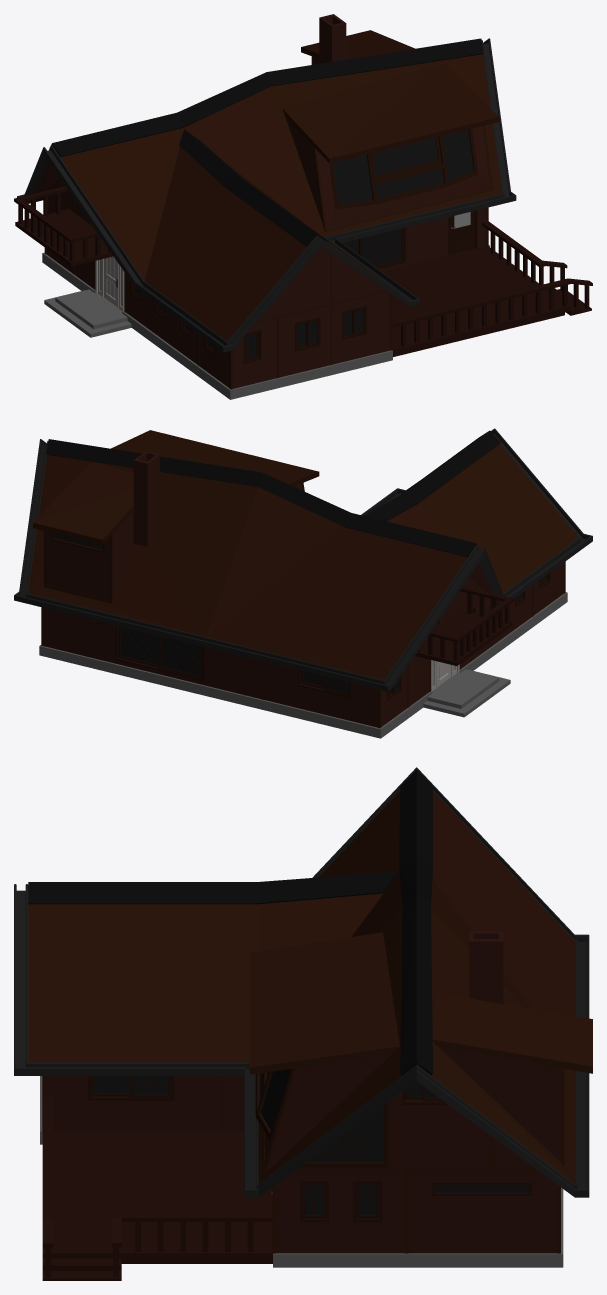
Rendered from H-005(ext)_F.FBX.
3 renders of one model, top to bottom at view 1: azimuth 30°, elevation 25°; view 2: azimuth 150°, elevation 25°; view 3: azimuth 270°, elevation 25°, orthographic. The views are drawn at different scales.
Parts seen in each view (by area): view 1: h-005(ext)_Wall, h-005(ext)_door_01_door, h-005(ext)_enteranceDoor_frame, h-005(ext)_enteranceDoor_door; view 2: h-005(ext)_Wall; view 3: h-005(ext)_Wall.
Boxes of the visible parts, box(x1,y1,x2,y2) form: h-005(ext)_Wall: box(14, 14, 592, 399); h-005(ext)_door_01_door: box(450, 211, 474, 254); h-005(ext)_enteranceDoor_frame: box(95, 258, 124, 311); h-005(ext)_enteranceDoor_door: box(104, 256, 117, 306); h-005(ext)_Wall: box(14, 428, 592, 738); h-005(ext)_Wall: box(14, 767, 592, 1280).
Size of the model in its own units: 251 by 106 by 201.
